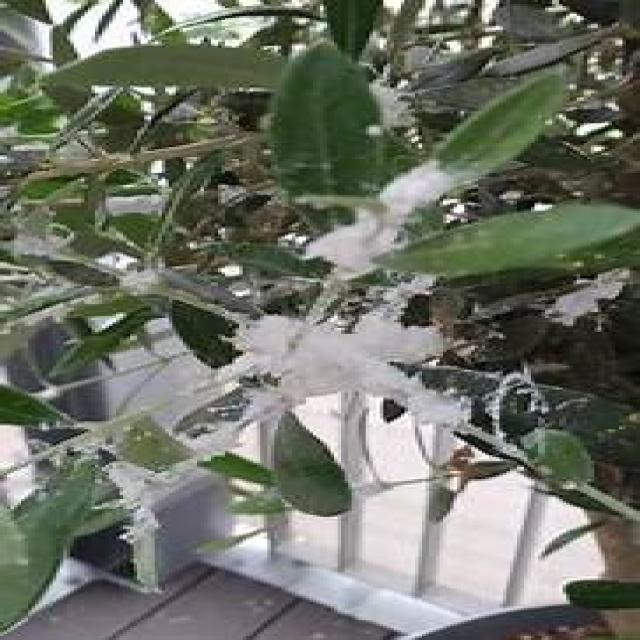Psyllid: (208, 296, 516, 457), (306, 159, 478, 278)
